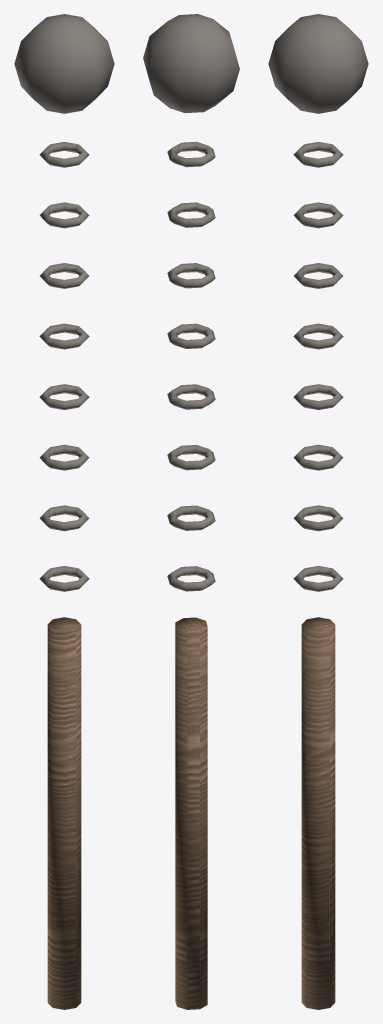
The model's file is chain_weapon.glb.
3 views of the same model, side by side, from view 1: azimuth 90°, elevation 25°; view 2: azimuth 210°, elevation 25°; view 3: azimuth 270°, elevation 25° (orthographic).
Parts seen in each view (by area): view 1: chain_weapon; view 2: chain_weapon; view 3: chain_weapon.
Boxes of the visible parts, left/top/right/bottom form: chain_weapon: left=14, top=14, right=114, bottom=1009; chain_weapon: left=143, top=14, right=239, bottom=1009; chain_weapon: left=268, top=14, right=368, bottom=1009.
Bounding box in the file's own units: 0.06 × 0.65 × 0.06.
Materials: 2 (1 with a texture image).
